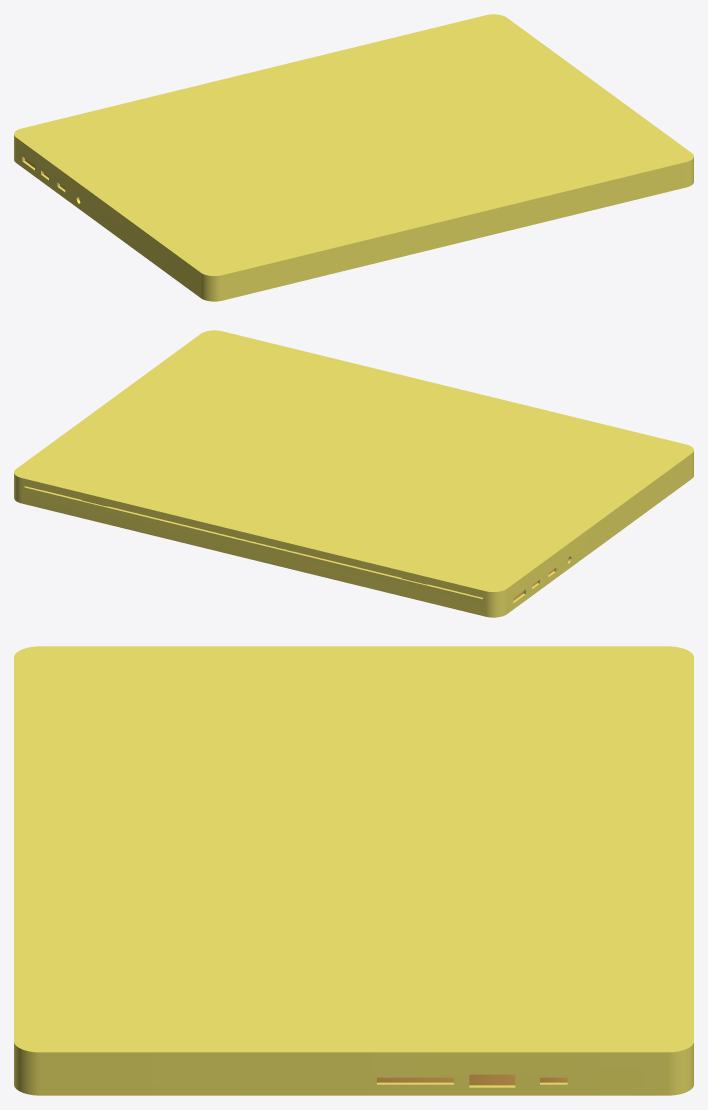
File: macbook_pro_14.glb
3 views of the same model, one above another, from view 1: azimuth 30°, elevation 25°; view 2: azimuth 150°, elevation 25°; view 3: azimuth 270°, elevation 25° (orthographic). The views are drawn at different scales.
Visible parts, largest first — view 1: display.lid_back__aluminium, case.top_case__aluminium, case.bottom_case__aluminium; view 2: display.lid_back__aluminium, case.top_case__aluminium, case.bottom_case__aluminium; view 3: display.lid_back__aluminium, case.top_case__aluminium, case.bottom_case__aluminium.
Boxes of the visible parts, x1,y1,x2,y2 form: display.lid_back__aluminium: (14,14,693,283); case.top_case__aluminium: (14,142,693,297); case.bottom_case__aluminium: (14,157,693,301); display.lid_back__aluminium: (14,330,693,599); case.top_case__aluminium: (14,458,693,613); case.bottom_case__aluminium: (14,473,693,617); display.lid_back__aluminium: (14,646,693,1064); case.top_case__aluminium: (14,1054,693,1088); case.bottom_case__aluminium: (14,1079,693,1095).
Size of the model in its own units: 313 by 16.4 by 221.
